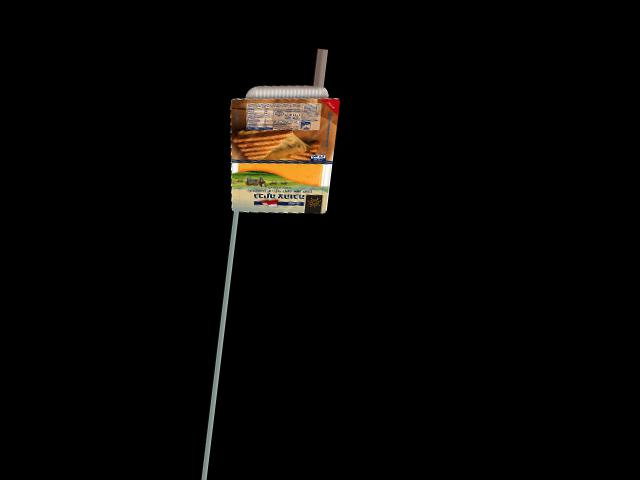cheese: (220, 75, 337, 220)
